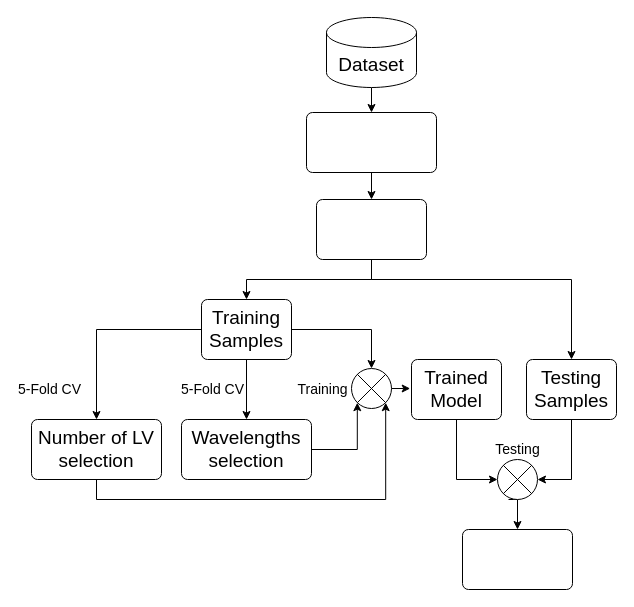
Image size: 634x607. Some labels were removed from this diagram. The centre of each missing label's shape, as x and y in pixels:
"Evaluation Metrics" belongs at point 517,559.
"Normalization" belongs at point 371,142.
"Outlier Removal" belongs at point 371,229.
